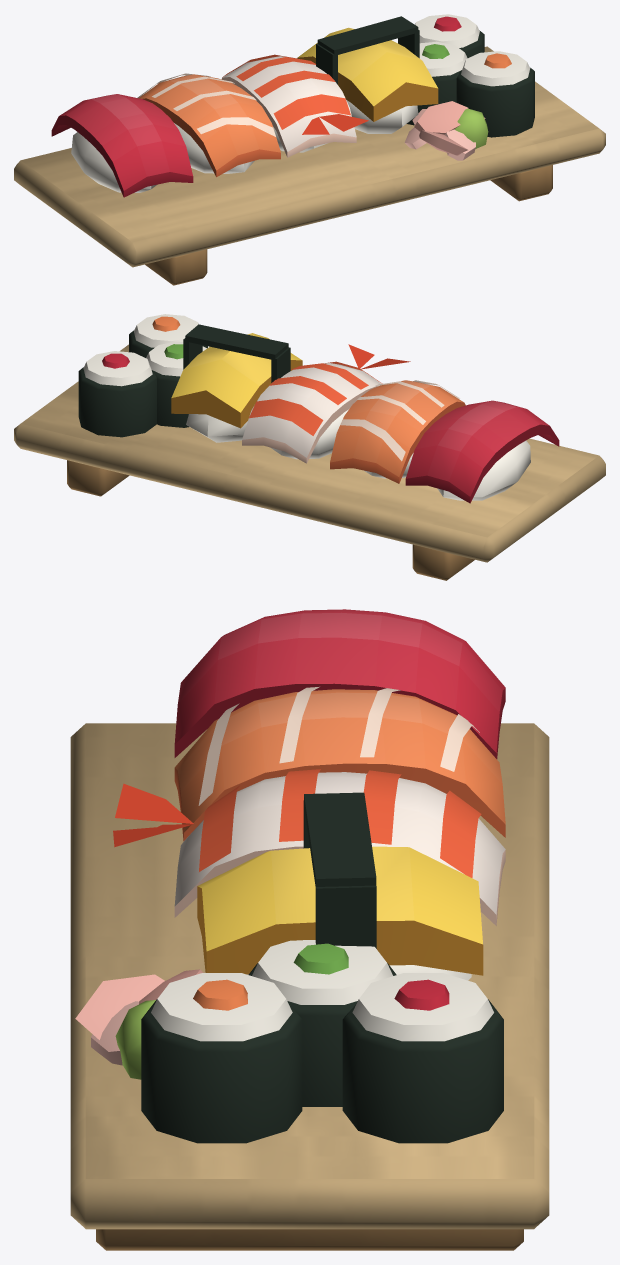
File: sushi-bar-geta.glb
The picture shows the model from 3 angles, top to bottom: view 1: azimuth 30°, elevation 25°; view 2: azimuth 150°, elevation 25°; view 3: azimuth 270°, elevation 25°; orthographic projection. The views are drawn at different scales.
Parts seen in each view (by area): view 1: sushi-bar-geta; view 2: sushi-bar-geta; view 3: sushi-bar-geta.
Part boxes in pixels (bbox=[...]): sushi-bar-geta: bbox=[14, 14, 605, 285]; sushi-bar-geta: bbox=[14, 314, 605, 580]; sushi-bar-geta: bbox=[70, 609, 549, 1250].
Bounding box in the file's own units: 0.44 × 0.1295 × 0.19.
Materials: 3 (1 with a texture image).
